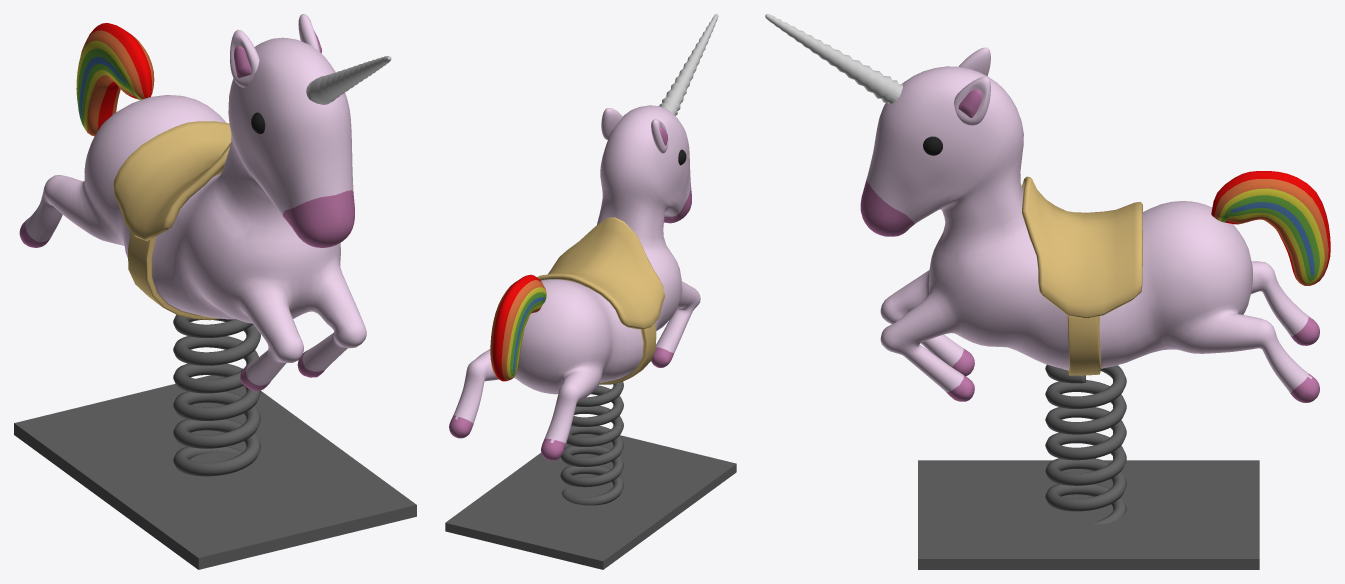
The model's file is unicorn.fbx.
3 views of the same model, side by side, from view 1: azimuth 30°, elevation 25°; view 2: azimuth 150°, elevation 25°; view 3: azimuth 270°, elevation 25° (orthographic). The views are drawn at different scales.
Visible parts, largest first — view 1: unicorn; view 2: unicorn; view 3: unicorn.
Boxes of the visible parts, <box> form: unicorn: <box>14,14,416,569</box>; unicorn: <box>445,14,736,569</box>; unicorn: <box>765,14,1330,569</box>.
Size of the model in its own units: 0.5517 by 1.32 by 1.34.
